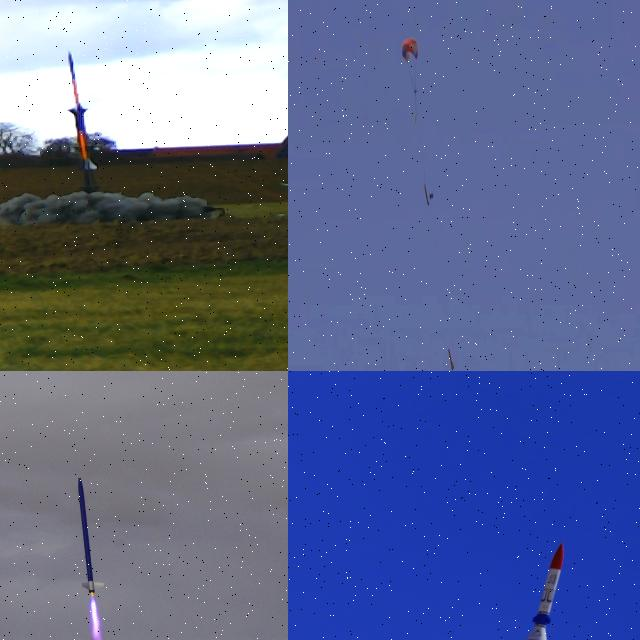Rocket: (506, 542, 565, 640), (67, 52, 99, 170), (76, 474, 105, 594), (449, 349, 454, 370)
